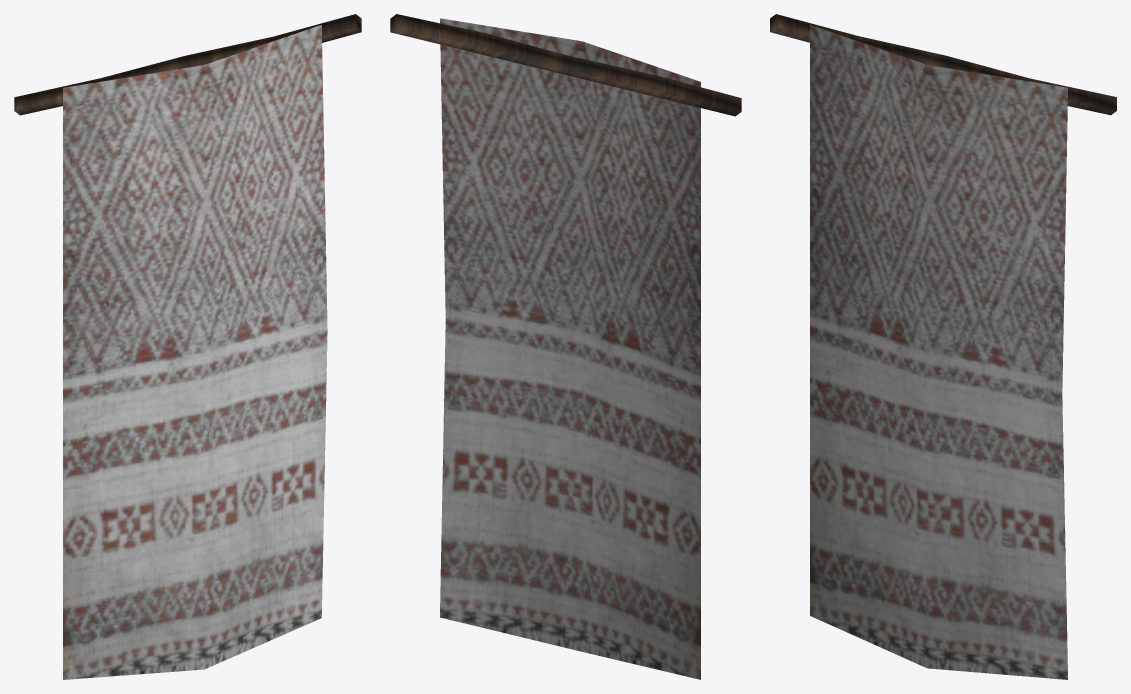
Rendered from flag.glb.
3 renders of one model, left to right at view 1: azimuth 30°, elevation 25°; view 2: azimuth 150°, elevation 25°; view 3: azimuth 330°, elevation 25°, orthographic.
Parts seen in each view (by area): view 1: flag; view 2: flag; view 3: flag.
Boxes of the visible parts, x1,y1,x2,y2 form: flag: (14, 14, 361, 679); flag: (390, 14, 741, 679); flag: (770, 14, 1116, 679).
Size of the model in its own units: 2.81 by 4.76 by 0.2763.
Materials: 2 (2 with a texture image).
